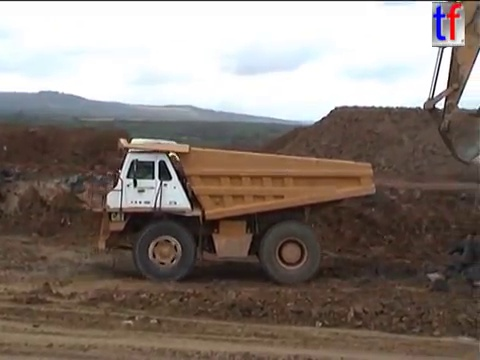excavator: (419, 1, 480, 167)
truck: (84, 134, 378, 285)
